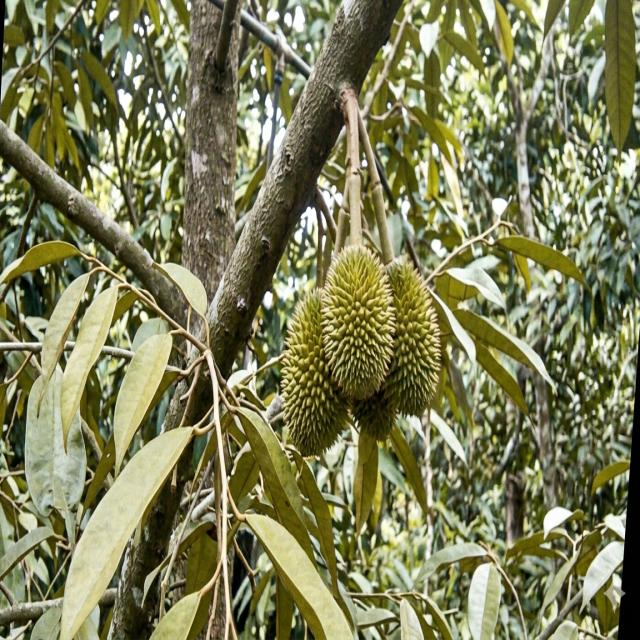immature: (321, 245, 395, 398), (281, 289, 348, 454), (383, 258, 440, 417)
